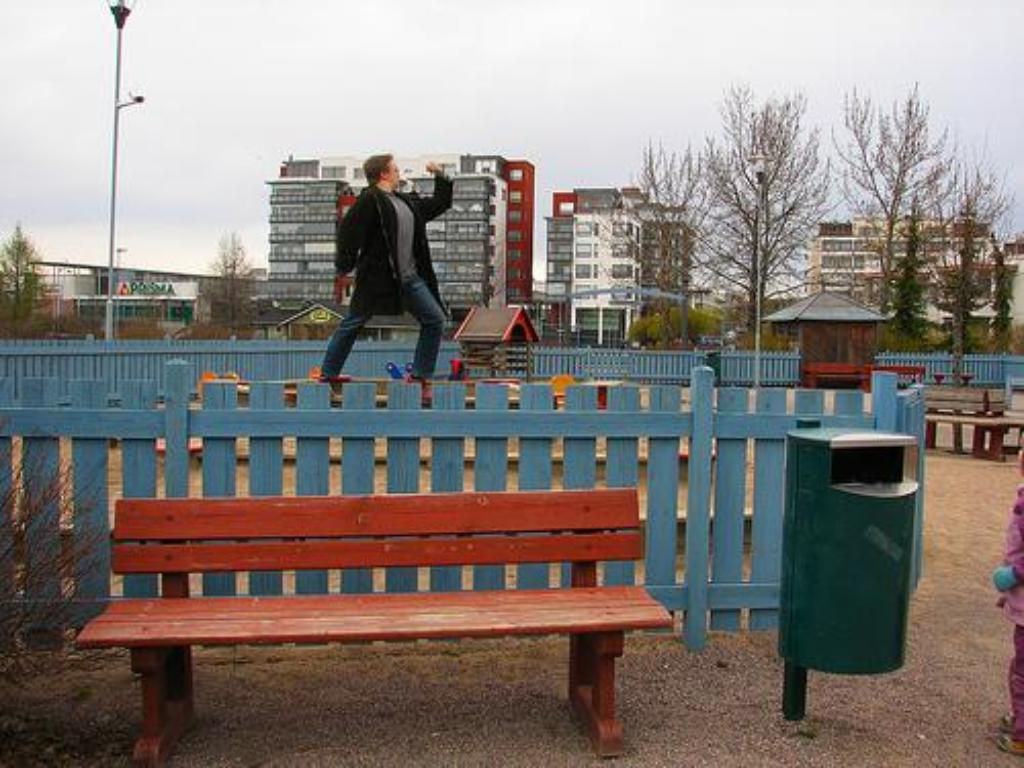dustbin: (775, 399, 931, 724)
